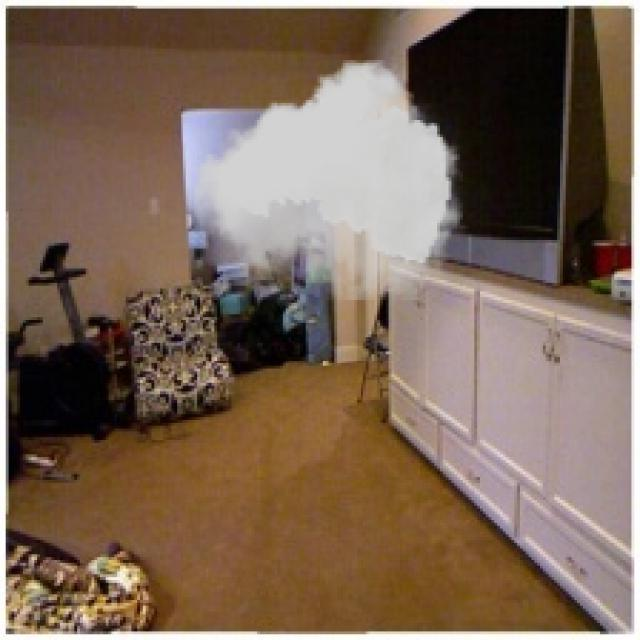smoke: (194, 60, 463, 300)
